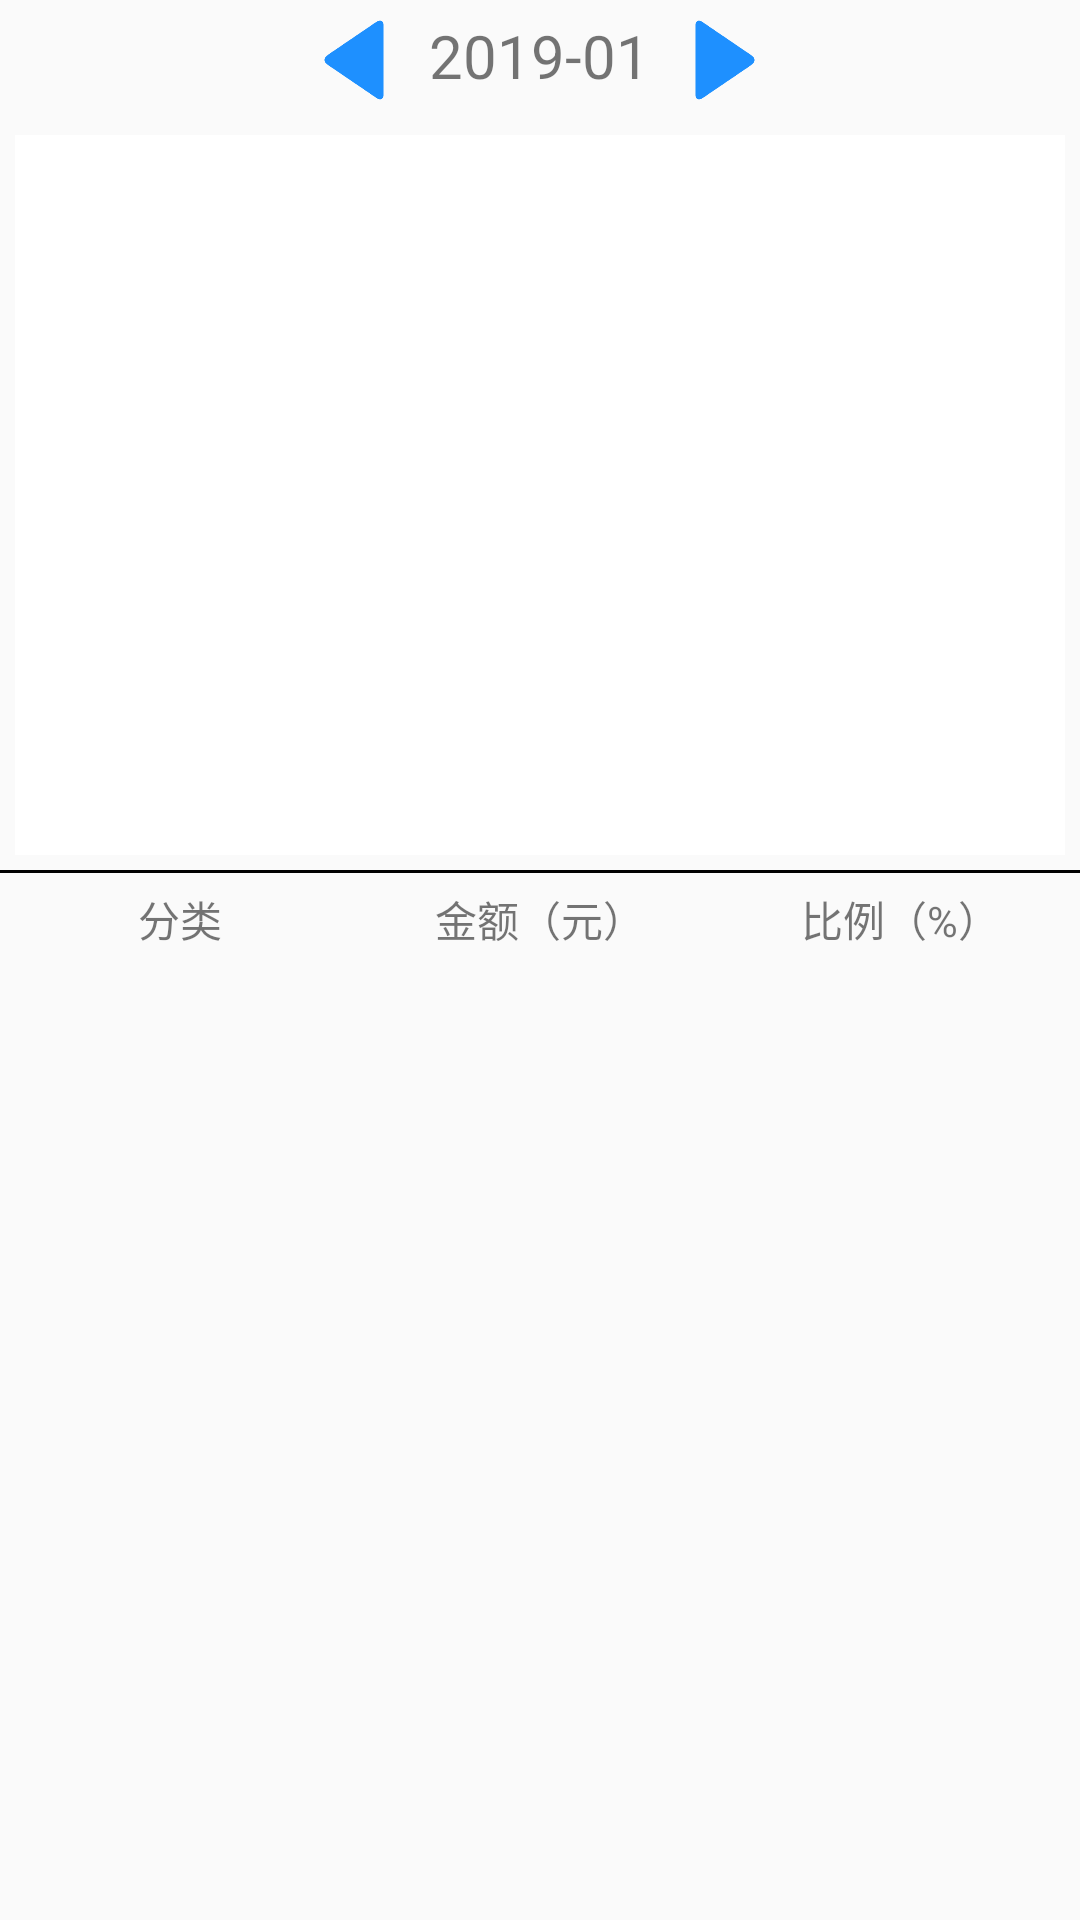

Named icons in this screenshot (1080 × 1920) and their bounding boxes, (x1, y1, x2, y2):
left arrow: (324, 20, 384, 100)
right arrow: (695, 20, 755, 100)
